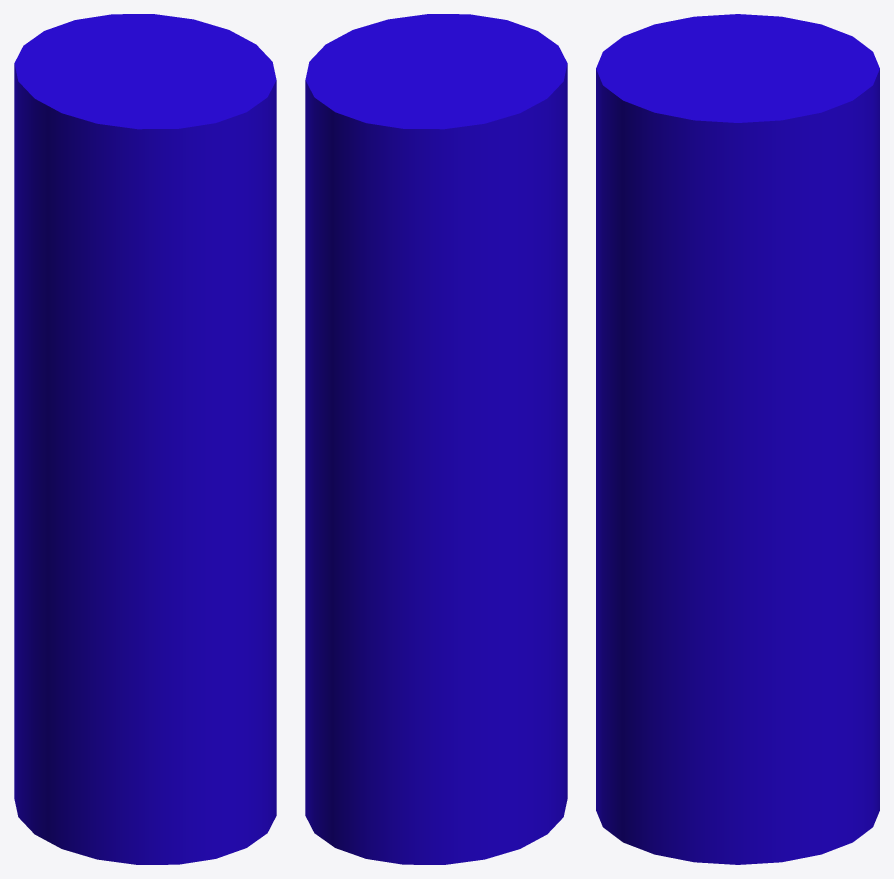
The model's file is TeleporterLight.fbx.
3 views of the same model, side by side, from view 1: azimuth 30°, elevation 25°; view 2: azimuth 150°, elevation 25°; view 3: azimuth 270°, elevation 25° (orthographic).
Visible parts, largest first — view 1: pCylinder8; view 2: pCylinder8; view 3: pCylinder8.
Boxes of the visible parts, <box> form: pCylinder8: <box>14,14,276,864</box>; pCylinder8: <box>305,14,567,864</box>; pCylinder8: <box>596,14,879,864</box>.
Bounding box in the file's own units: 0.0803 × 0.2548 × 0.0884.
